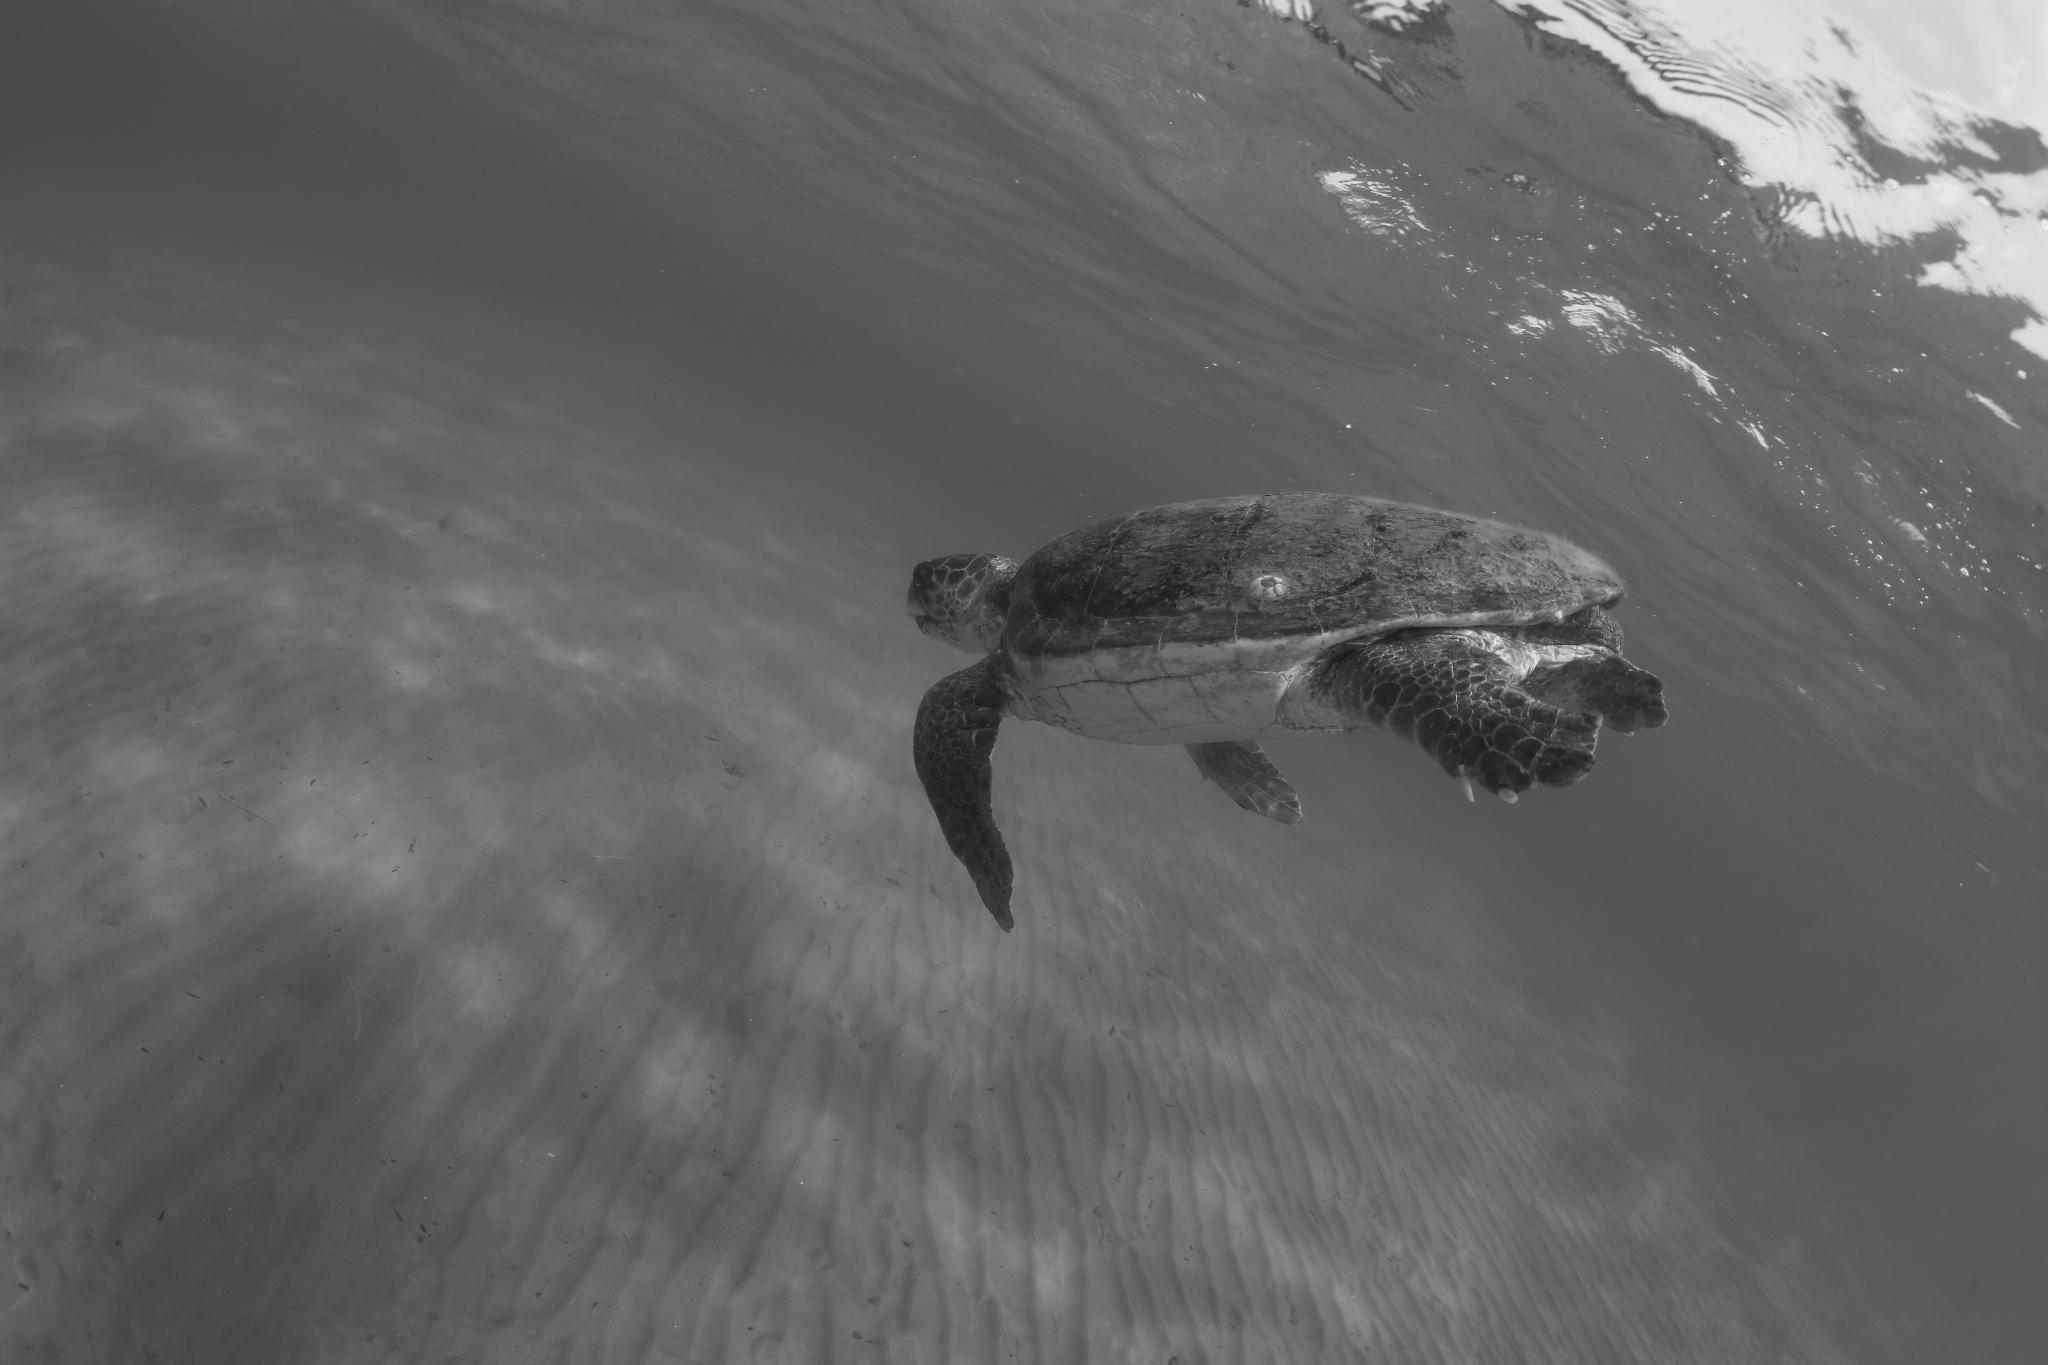Head: (907, 554, 1020, 653)
